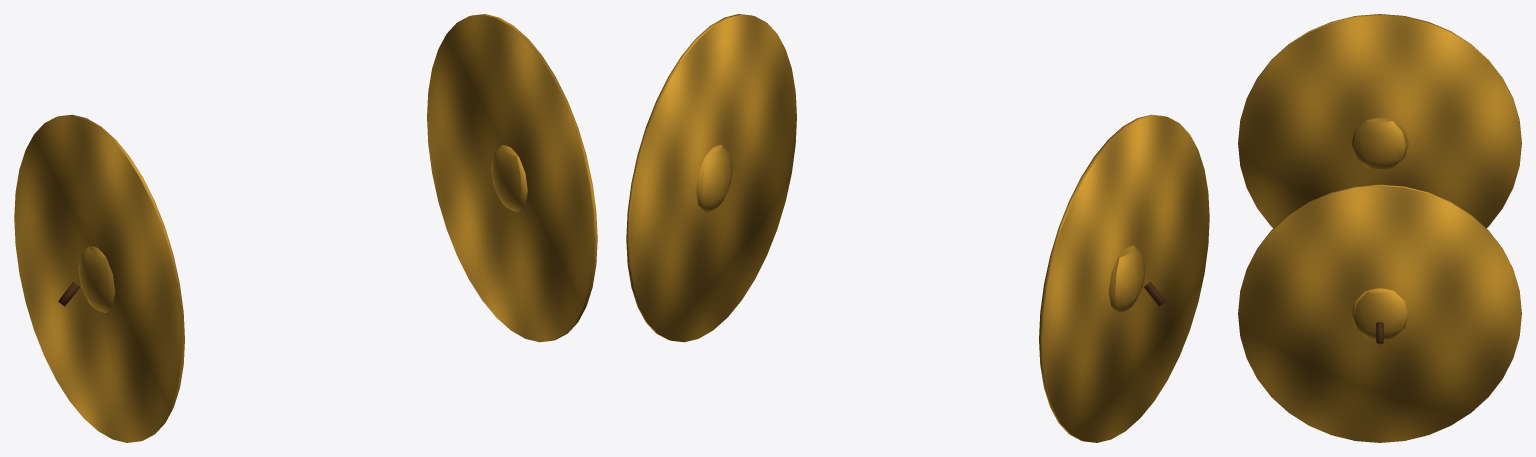
File: banda_platillos.obj
The picture shows the model from 3 angles, left to right: view 1: azimuth 30°, elevation 25°; view 2: azimuth 150°, elevation 25°; view 3: azimuth 270°, elevation 25°; orthographic projection. The views are drawn at different scales.
Parts seen in each view (by area): view 1: banda_platillos; view 2: banda_platillos; view 3: banda_platillos.
Part boxes in pixels (x1=…): banda_platillos: x1=14, y1=14, x2=597, y2=442; banda_platillos: x1=626, y1=14, x2=1209, y2=442; banda_platillos: x1=1238, y1=14, x2=1521, y2=442.
Bounding box in the file's own units: 0.6461 × 0.38 × 0.38.
2 materials, 2 textured.
